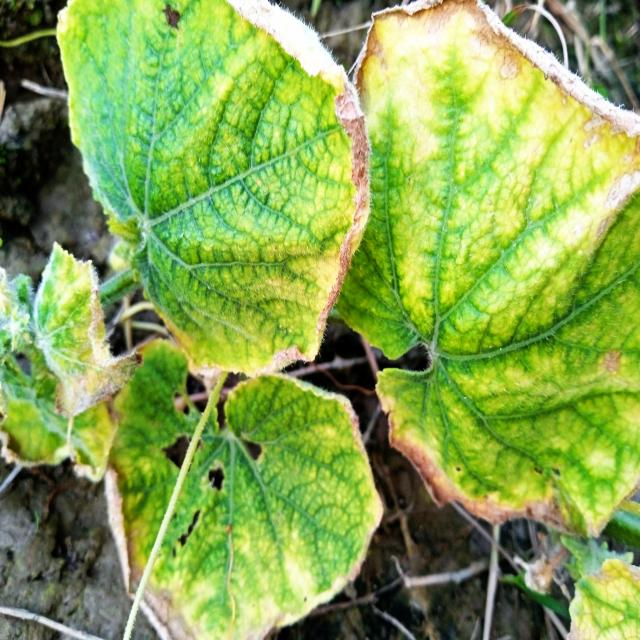Gummy-Stem-Blight: (351, 0, 640, 239), (224, 1, 372, 376)
